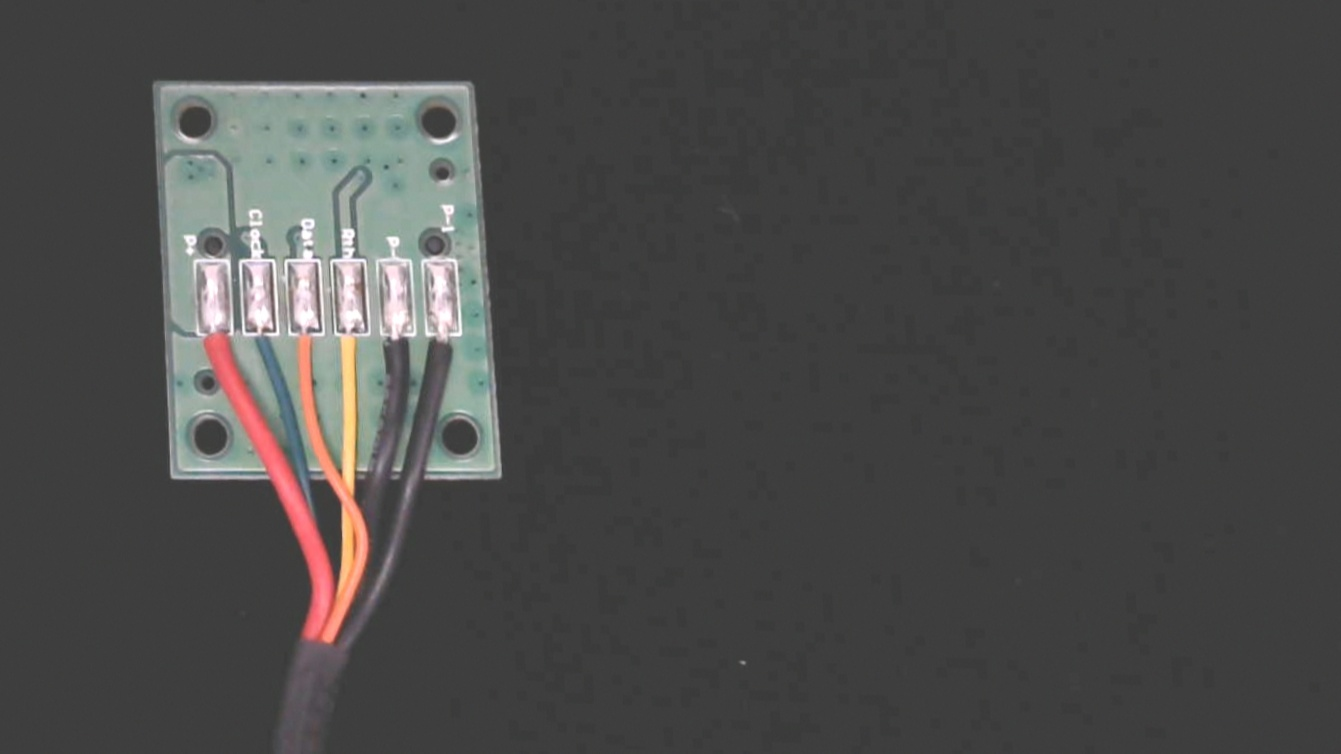Black: (376, 316, 419, 394)
Black1: (425, 315, 468, 396)
Green: (242, 314, 282, 388)
Orange: (285, 314, 327, 385)
Red: (194, 316, 237, 400)
Yellow: (332, 312, 370, 391)
